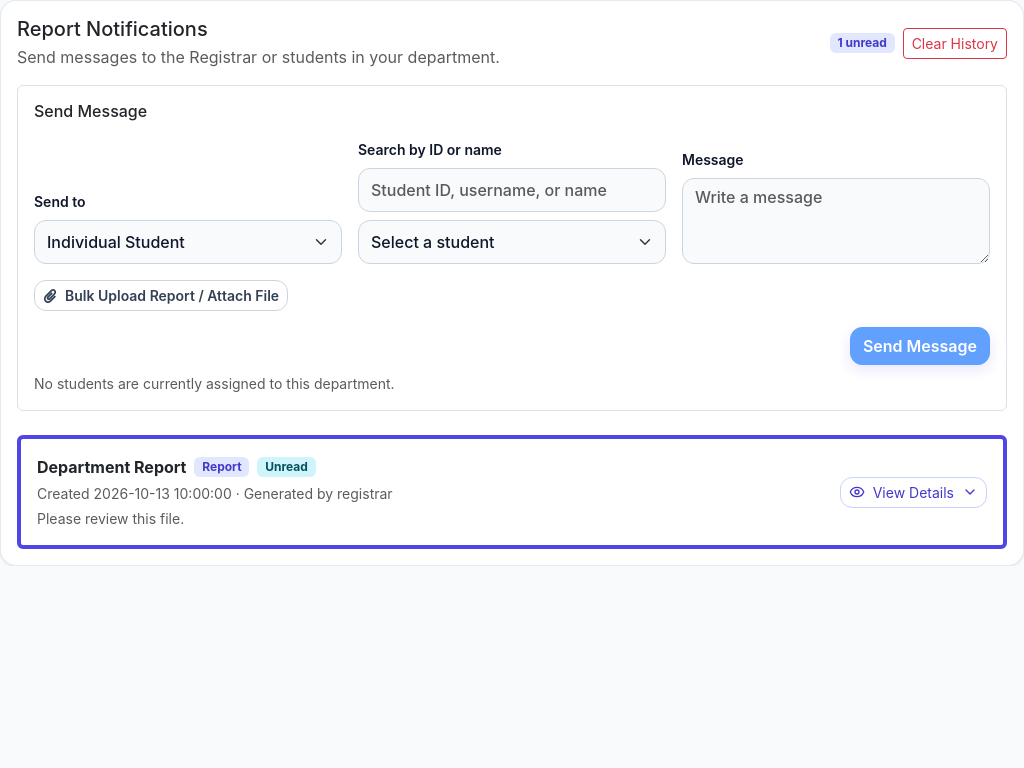
Reports attachment › shows compact report cards and toggles the full details
Check: the text "Department Report" is shown, box [37, 455, 186, 479]
Check: the text "Please review this file." is shown, box [37, 510, 184, 527]
What coordinates should you click on to do the following:
click the button "View Details"
I would click on:
 (913, 492)
Its box is [840, 477, 987, 508].
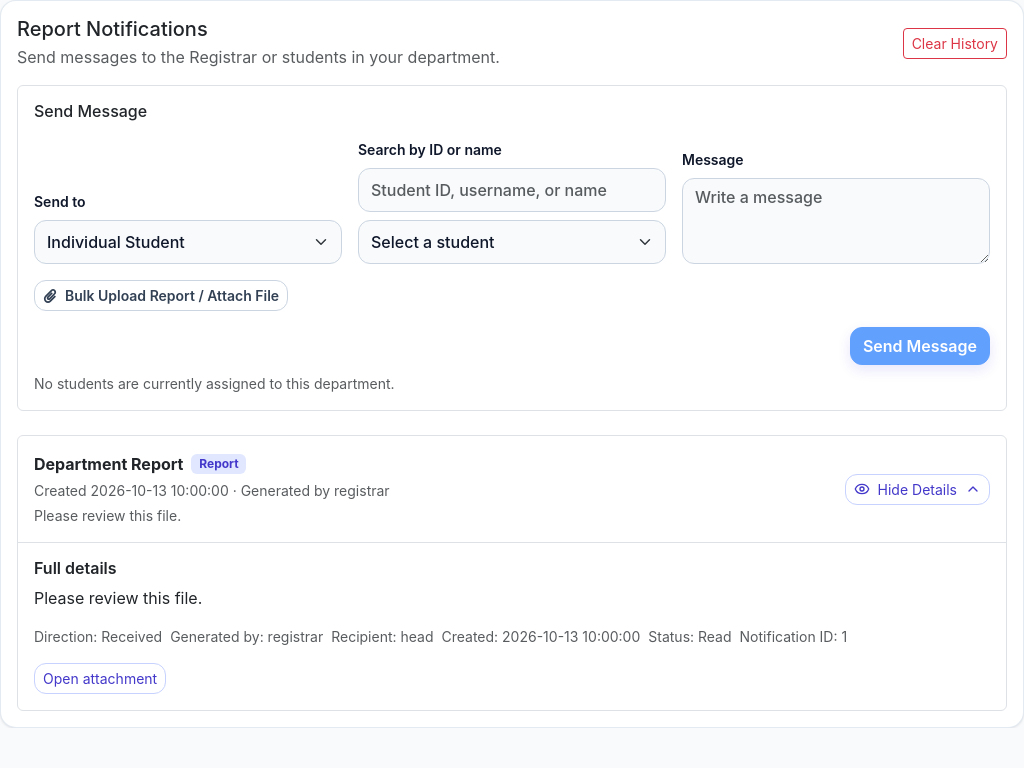
Check: the text "Direction: Received" is shown, box [34, 626, 162, 647]
Check: the text "Recipient: head" is shown, box [331, 626, 434, 647]
What coordinates should you click on to do the following:
click the button "Hide Details"
I would click on:
 (917, 489)
Its box is [845, 474, 990, 505].
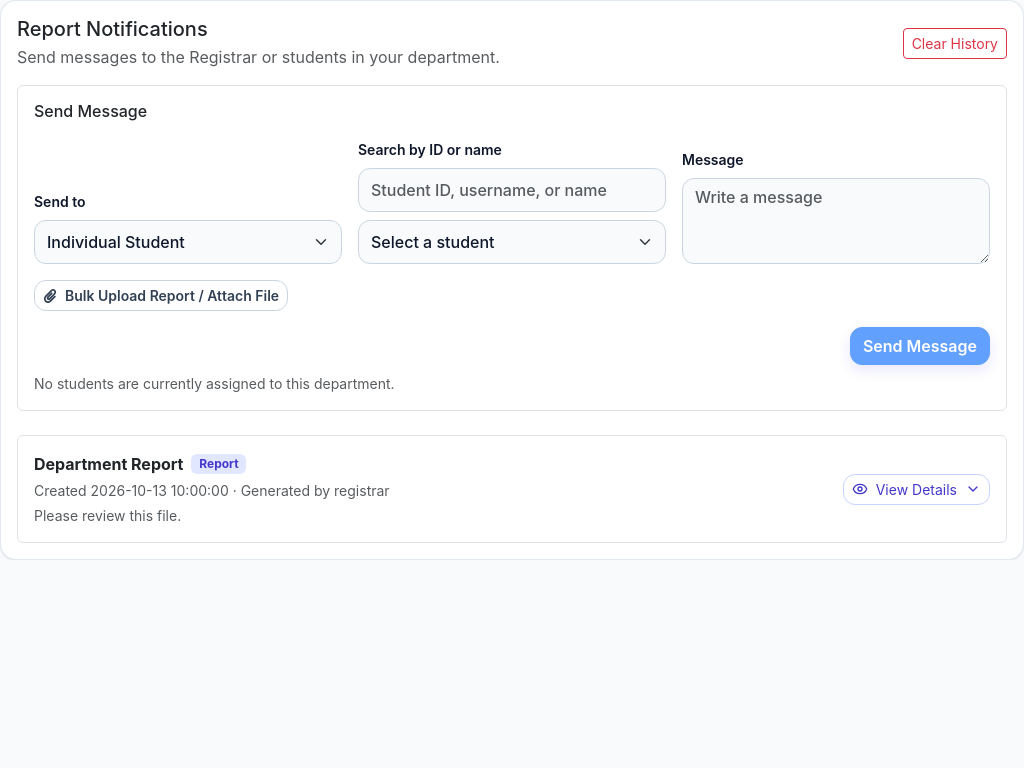
Check: the text "Direction: Received" is gone
